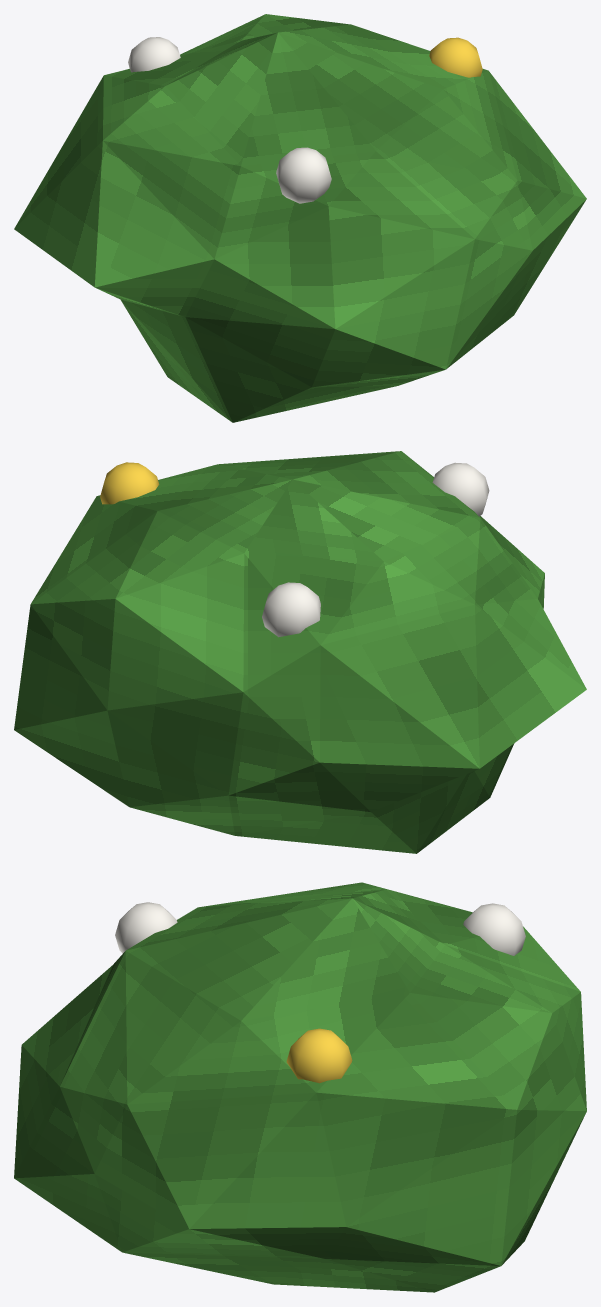
File: arbusto.glb
3 renders of one model, top to bottom at view 1: azimuth 30°, elevation 25°; view 2: azimuth 150°, elevation 25°; view 3: azimuth 270°, elevation 25°, orthographic. The views are drawn at different scales.
Parts seen in each view (by area): view 1: arbusto; view 2: arbusto; view 3: arbusto.
Part boxes in pixels (x1,y1,x2,y2): arbusto: (14, 14, 586, 422); arbusto: (14, 451, 586, 853); arbusto: (14, 882, 586, 1292).
Size of the model in its own units: 1.86 by 1.21 by 1.73.
3 materials, 1 textured.
